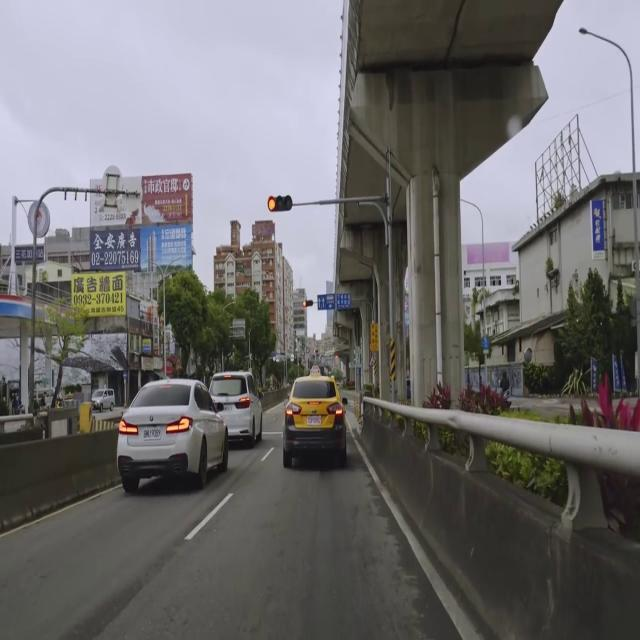red light: (267, 196, 292, 212), (302, 300, 313, 308)
